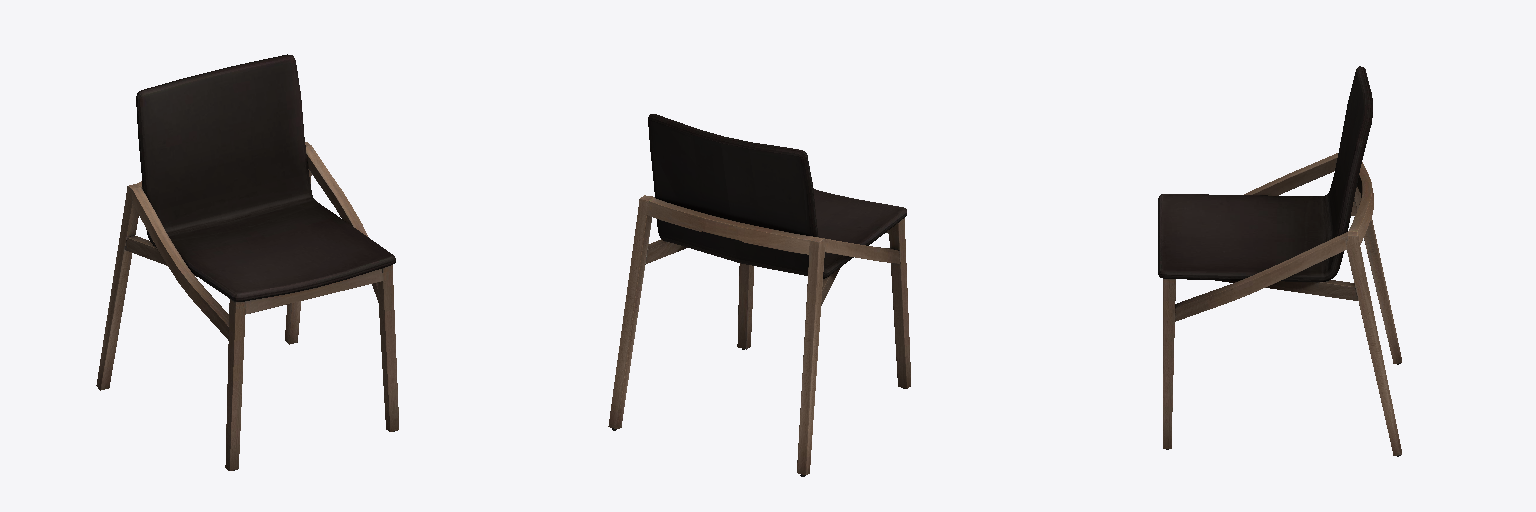
3 renders of one model, left to right at view 1: azimuth 30°, elevation 25°; view 2: azimuth 150°, elevation 25°; view 3: azimuth 270°, elevation 25°, orthographic.
Visible parts, largest first — view 1: Capita_510T; view 2: Capita_510T; view 3: Capita_510T.
Part boxes in pixels (x1,y1,x2,y2): Capita_510T: (96, 54, 398, 470); Capita_510T: (608, 114, 910, 476); Capita_510T: (1158, 66, 1401, 456).
Size of the model in its own units: 0.5227 by 0.7764 by 0.5582.
1 materials, 1 textured.